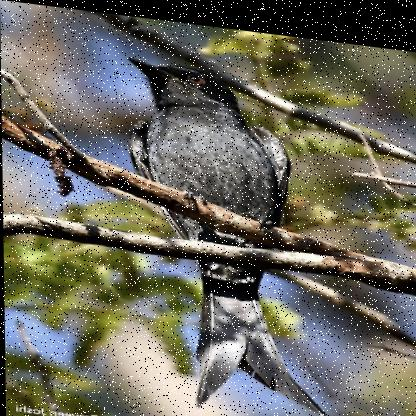Burung: (125, 50, 329, 413)
